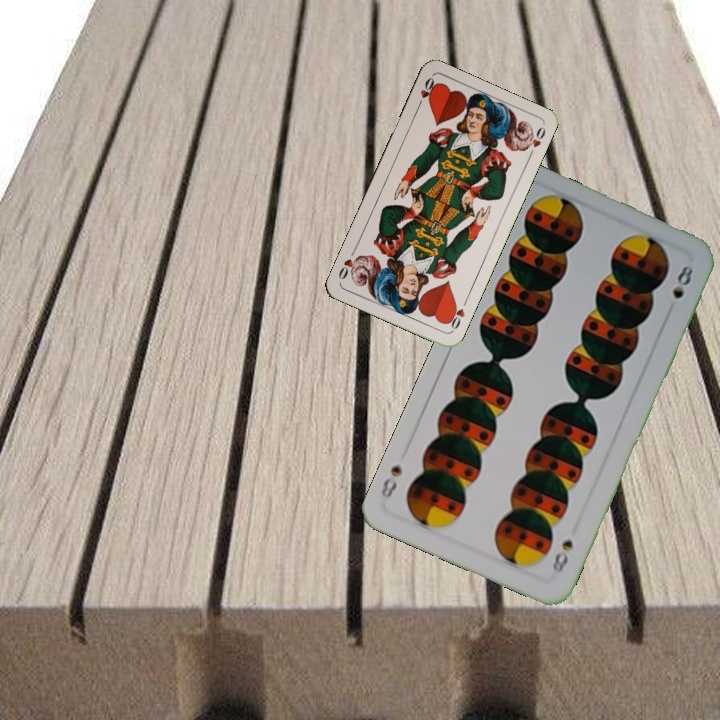HO: (443, 295, 470, 333), (413, 73, 439, 112)
S8: (548, 535, 576, 576)
